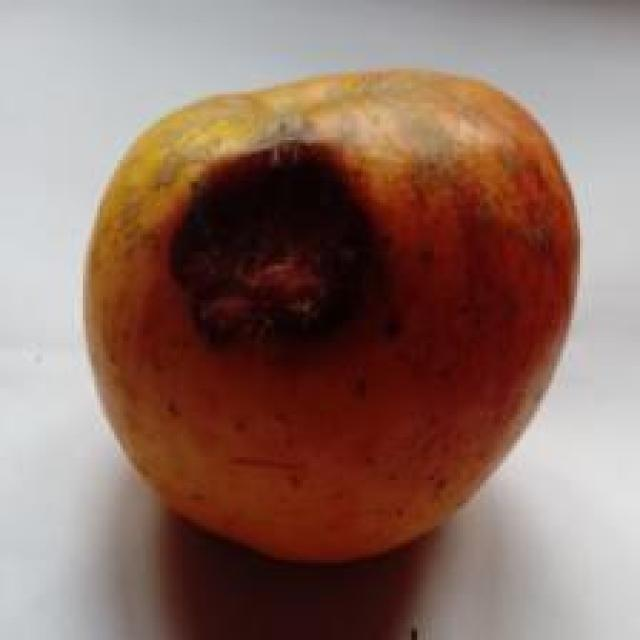rotten apple: (66, 50, 600, 640)
